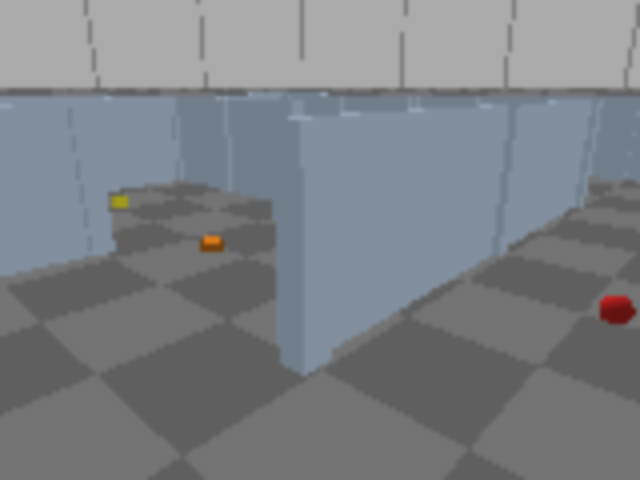puck: (594, 287, 638, 334), (202, 237, 222, 253), (110, 194, 128, 210)
